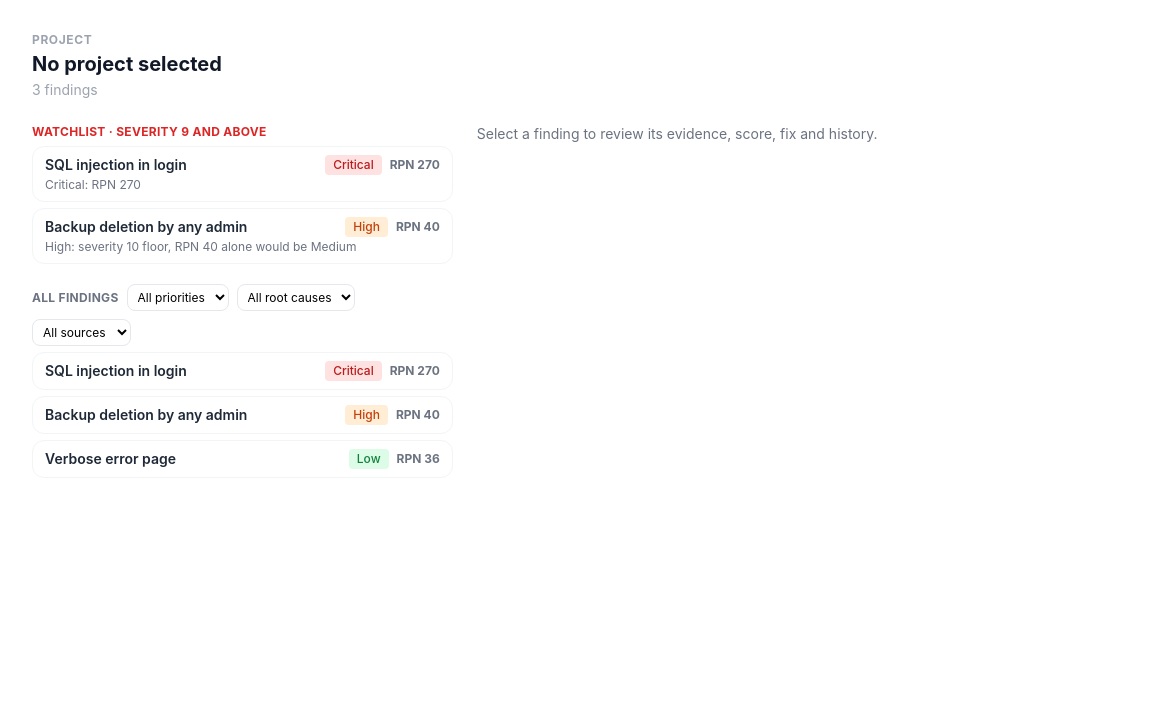
Test case: one finding, fully reviewable › shows an imported finding with its source and without inventing evidence
The image size is (1152, 720).
Click the button "Backup deletion by any admin" at (242, 236), box x1=32 y1=208 x2=453 y2=264
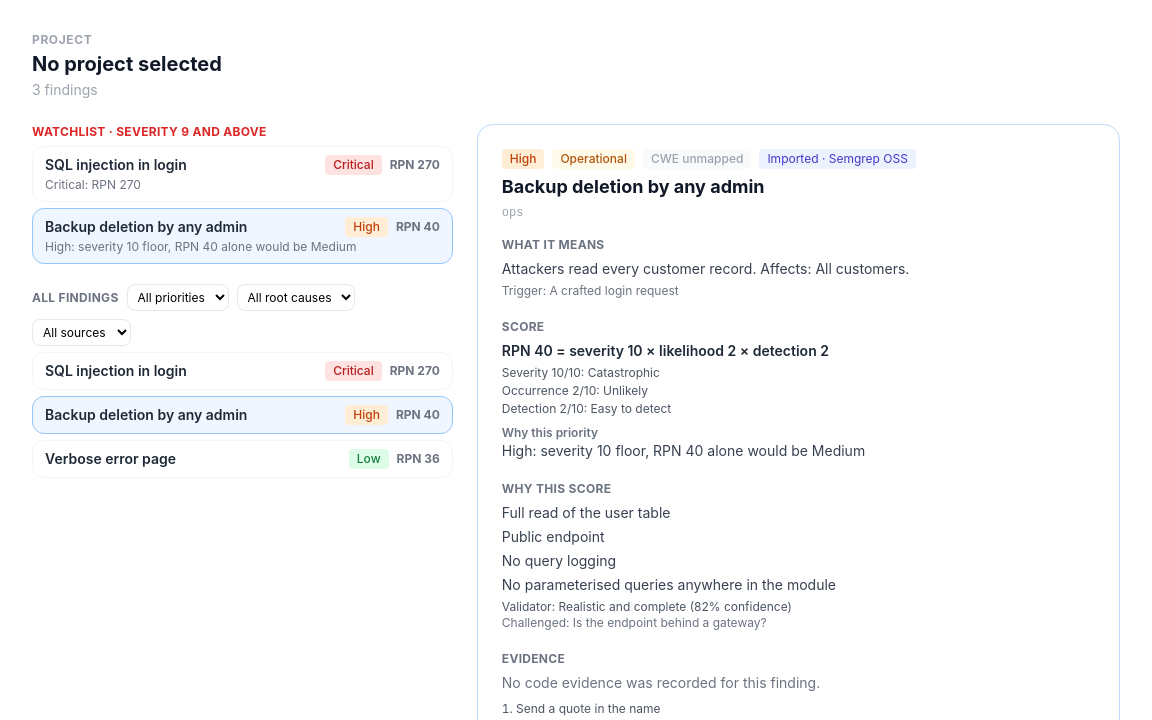
Expected: the text "Imported · Semgrep OSS" is shown, x1=759 y1=149 x2=916 y2=169
Expected: the text "No code evidence was recorded for this finding." is shown, x1=502 y1=674 x2=820 y2=691
Expected: the text "CWE unmapped" is shown, x1=643 y1=149 x2=751 y2=169
